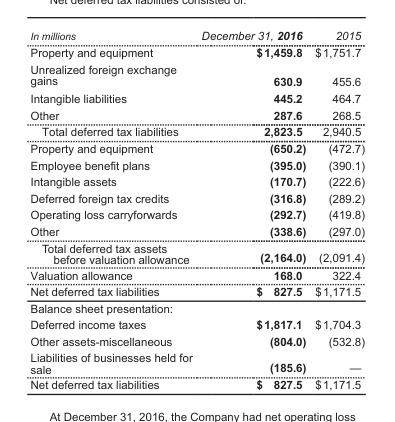table: (29, 28, 364, 390)
table column: (29, 28, 196, 390), (196, 28, 309, 390), (309, 28, 364, 390)
table column header: (29, 28, 364, 43)
table projected row header: (29, 299, 364, 316)
table row: (29, 60, 364, 89), (29, 239, 364, 266), (29, 349, 364, 376), (29, 43, 364, 60), (29, 89, 364, 106), (29, 106, 364, 123), (29, 139, 364, 156), (29, 156, 364, 173), (29, 189, 364, 206), (29, 222, 364, 239), (29, 282, 364, 299), (29, 299, 364, 316), (29, 332, 364, 349), (29, 123, 364, 139), (29, 173, 364, 189), (29, 206, 364, 222), (29, 266, 364, 282), (29, 316, 364, 332), (29, 28, 364, 43), (29, 376, 364, 390)
